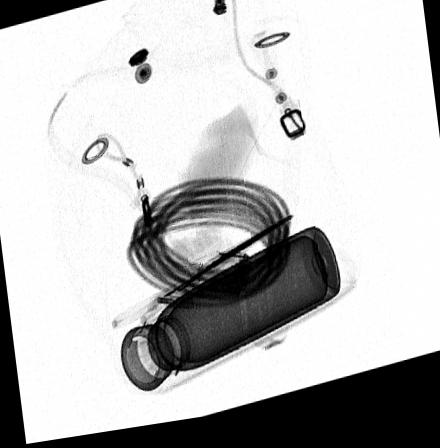Scissors: (111, 222, 294, 333)
